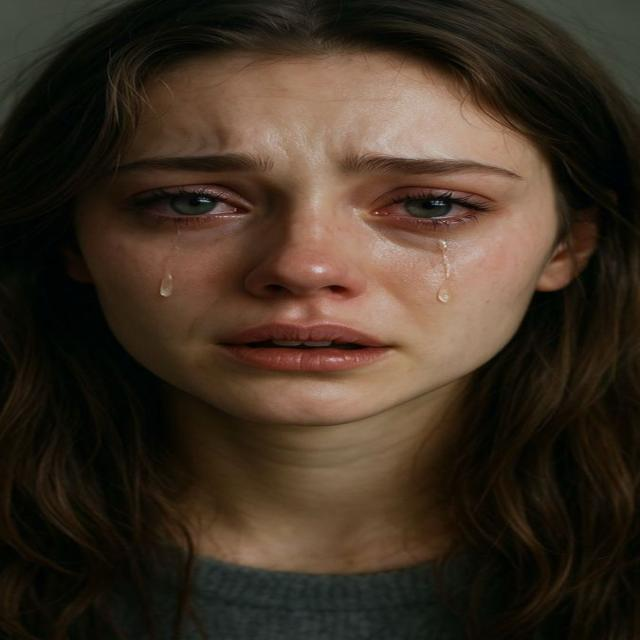sem_oculos: (49, 146, 626, 242)
